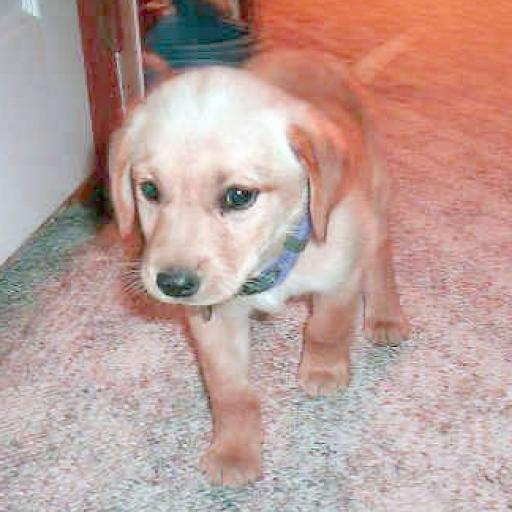dog_face: (113, 75, 366, 311)
